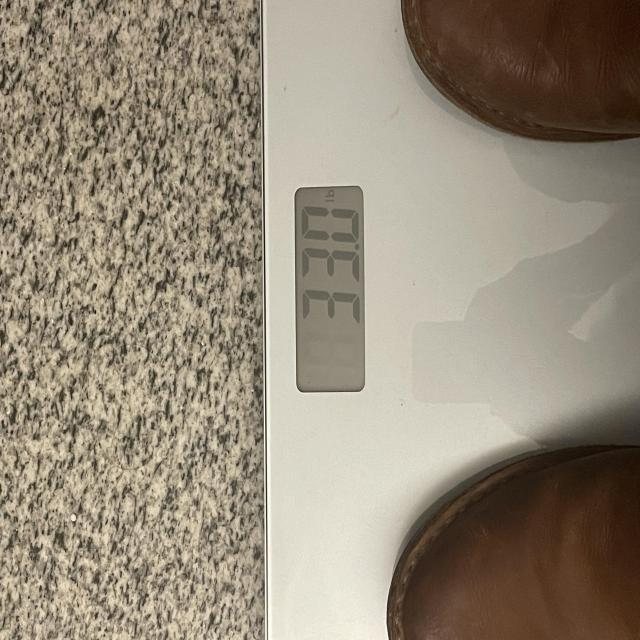ws: (260, 0, 640, 640)
